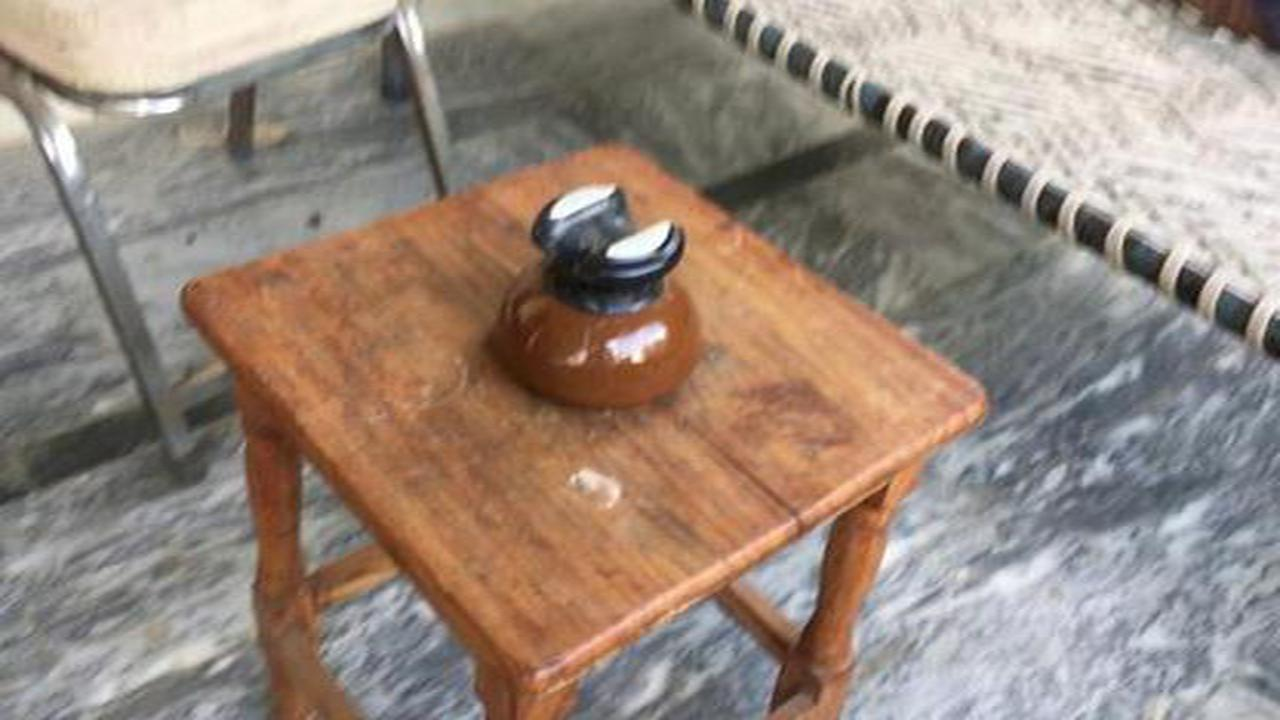insulator_pin: (480, 173, 714, 416)
